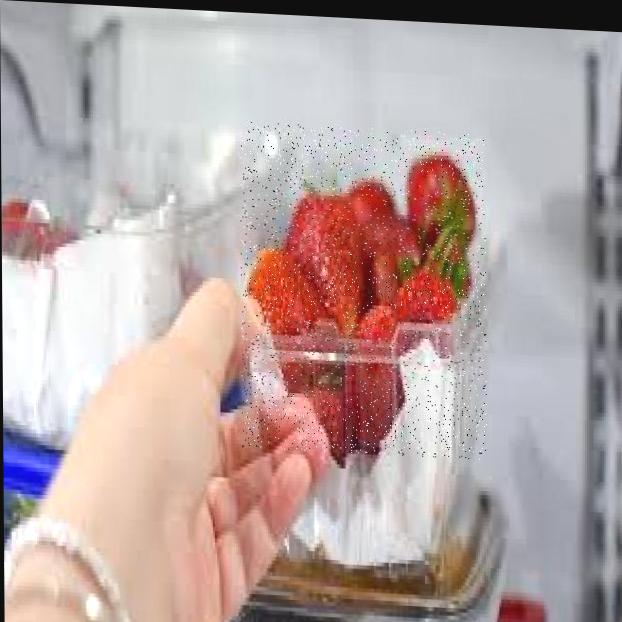strawberries: (240, 121, 487, 460)
